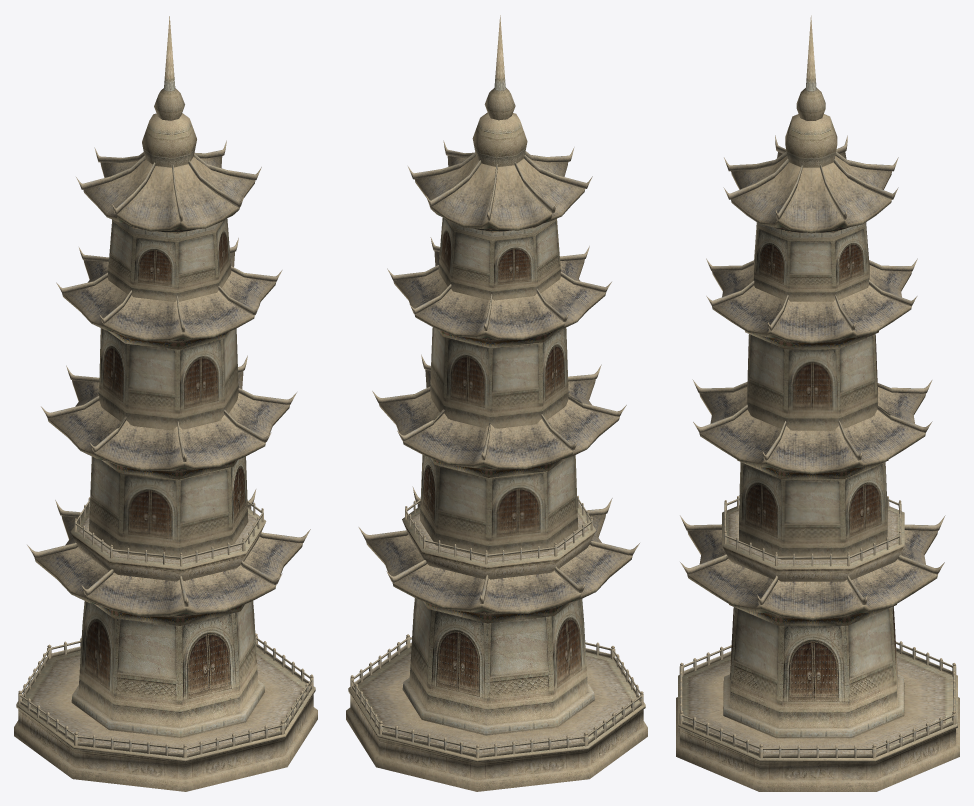
File: desert_tower.fbx
3 renders of one model, left to right at view 1: azimuth 30°, elevation 25°; view 2: azimuth 150°, elevation 25°; view 3: azimuth 270°, elevation 25°, orthographic.
Visible parts, largest first — view 1: desert_tower02_02, desert_tower02_03, desert_tower02_01; view 2: desert_tower02_02, desert_tower02_03, desert_tower02_01; view 3: desert_tower02_02, desert_tower02_03, desert_tower02_01.
Part boxes in pixels (x1=…): desert_tower02_02: x1=27, y1=113, x2=310, y2=738; desert_tower02_03: x1=34, y1=16, x2=302, y2=625; desert_tower02_01: x1=14, y1=497, x2=317, y2=791; desert_tower02_02: x1=358, y1=112, x2=639, y2=735; desert_tower02_03: x1=366, y1=15, x2=632, y2=623; desert_tower02_01: x1=346, y1=495, x2=647, y2=791; desert_tower02_02: x1=680, y1=114, x2=945, y2=738; desert_tower02_03: x1=687, y1=15, x2=937, y2=625; desert_tower02_01: x1=676, y1=496, x2=959, y2=791.
Size of the model in its own units: 17.02 by 47.5 by 17.02.
